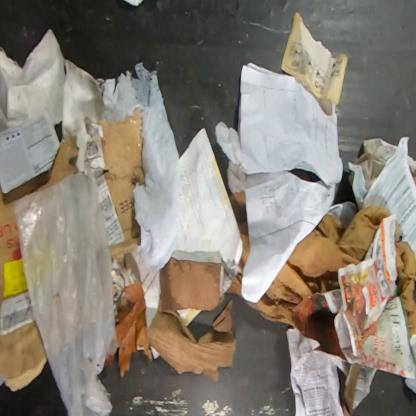cardboard: (0, 135, 79, 316), (137, 301, 236, 385), (96, 107, 145, 271), (158, 258, 224, 314), (0, 320, 47, 392)
soft_plastic: (16, 169, 117, 415), (96, 62, 184, 274)
